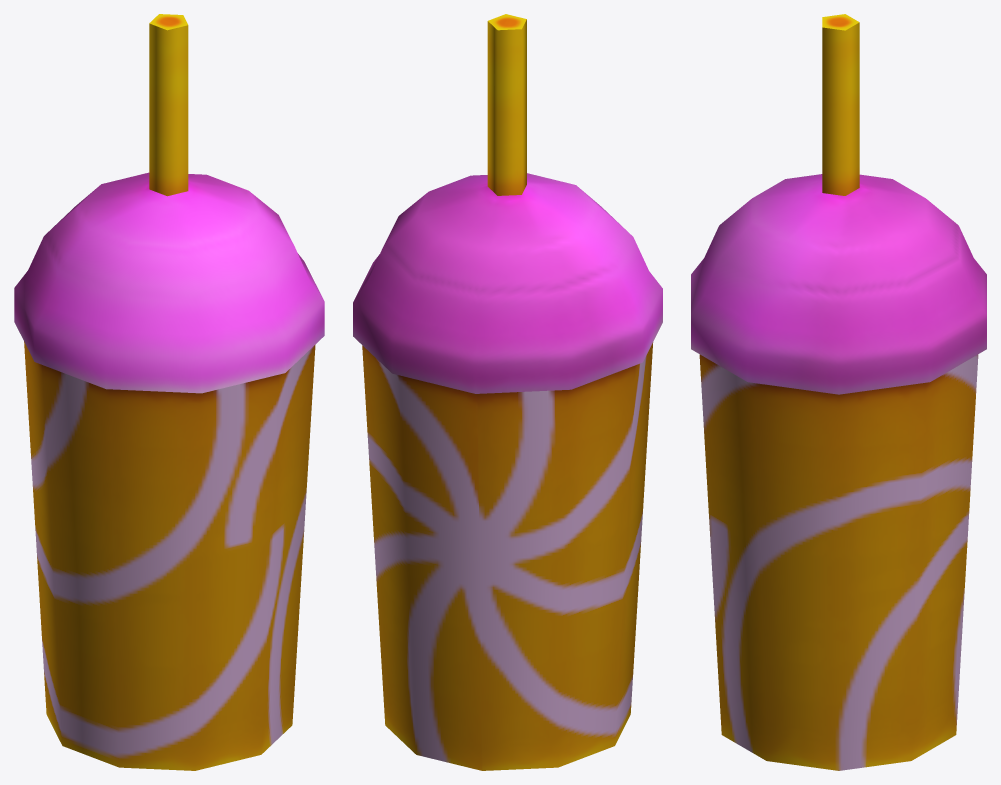
The model's file is CafeFood01_13.FBX.
3 views of the same model, side by side, from view 1: azimuth 30°, elevation 25°; view 2: azimuth 150°, elevation 25°; view 3: azimuth 270°, elevation 25° (orthographic).
Visible parts, largest first — view 1: CafeFood01_13; view 2: CafeFood01_13; view 3: CafeFood01_13.
Boxes of the visible parts, x1,y1,x2,y2 form: CafeFood01_13: (14, 14, 324, 770); CafeFood01_13: (353, 14, 662, 770); CafeFood01_13: (691, 14, 986, 770).
Size of what is drawn, in the model's own units: 0.1085 by 0.2682 by 0.1032.
